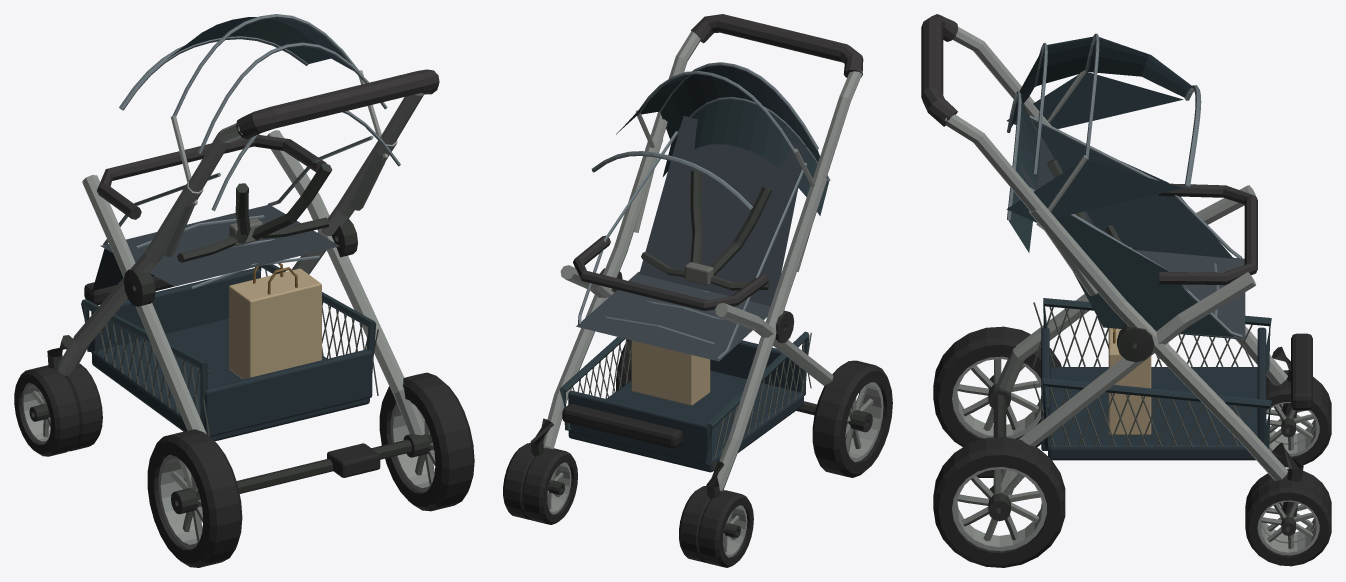
Rendered from stroller.glb.
3 views of the same model, side by side, from view 1: azimuth 30°, elevation 25°; view 2: azimuth 150°, elevation 25°; view 3: azimuth 270°, elevation 25° (orthographic). The views are drawn at different scales.
Parts seen in each view (by area): view 1: GoToPlazaStroller; view 2: GoToPlazaStroller; view 3: GoToPlazaStroller.
Part boxes in pixels (bbox=[...]): GoToPlazaStroller: bbox=[14, 14, 474, 567]; GoToPlazaStroller: bbox=[503, 14, 892, 567]; GoToPlazaStroller: bbox=[921, 14, 1331, 567].
Size of the model in its own units: 0.6312 by 1.08 by 0.8592.
